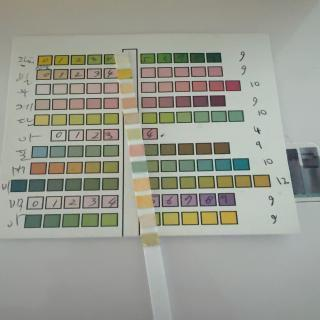mark: (142, 234, 159, 248), (136, 196, 152, 208), (134, 179, 150, 191), (129, 144, 145, 156), (132, 162, 147, 173), (127, 129, 143, 139), (118, 69, 132, 80), (140, 215, 154, 226), (125, 114, 139, 124), (115, 54, 128, 64), (122, 99, 136, 108), (120, 84, 132, 94)
